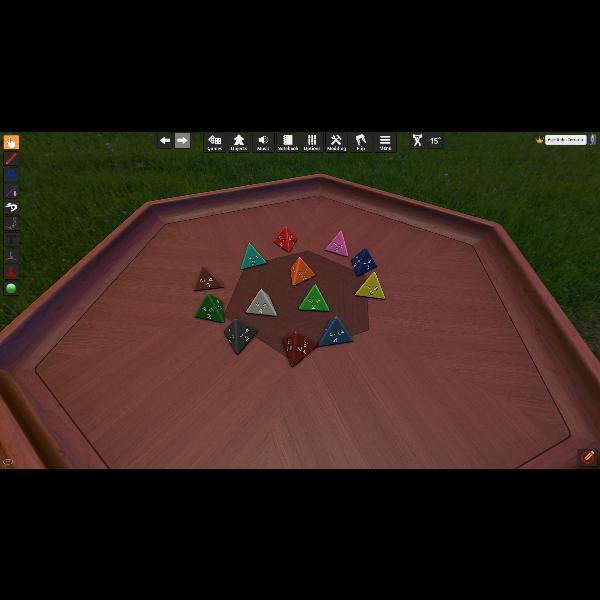d4: (282, 330, 316, 366), (225, 318, 257, 355), (318, 317, 352, 347), (195, 294, 225, 322), (299, 284, 329, 312), (246, 288, 276, 315), (194, 264, 224, 290), (356, 272, 384, 298), (351, 248, 377, 276), (291, 256, 315, 284), (242, 241, 266, 268), (274, 224, 296, 252), (325, 231, 348, 257)
